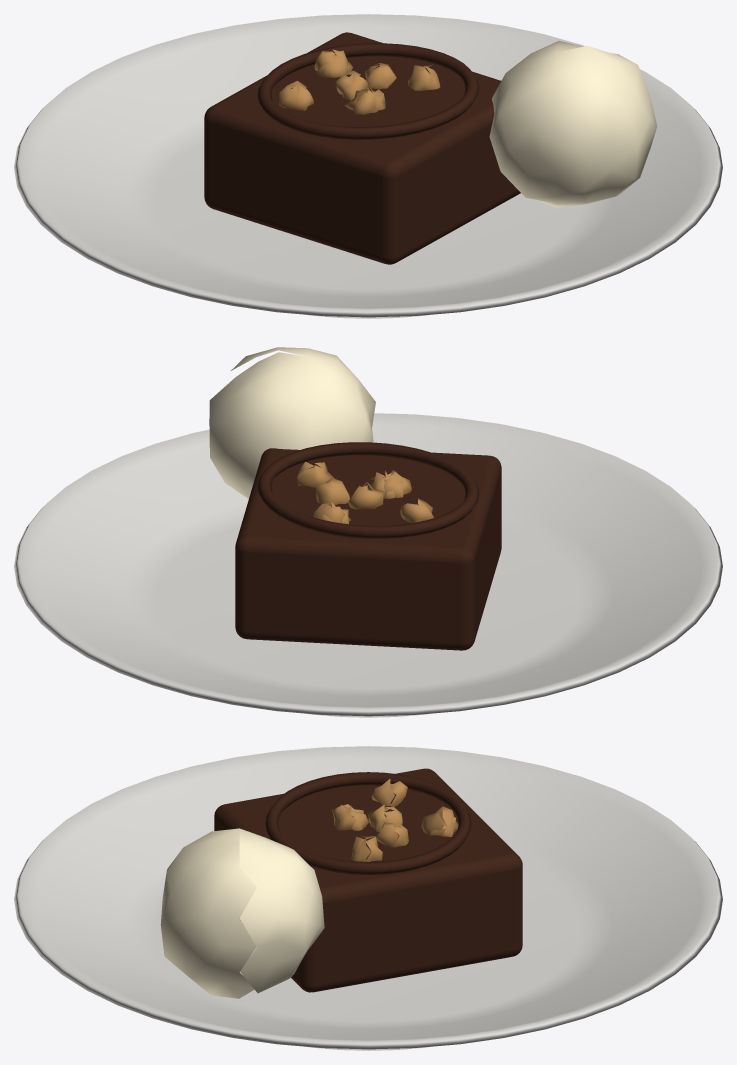
Rendered from brownie.glb.
3 renders of one model, top to bottom at view 1: azimuth 30°, elevation 25°; view 2: azimuth 150°, elevation 25°; view 3: azimuth 270°, elevation 25°, orthographic.
Parts seen in each view (by area): view 1: brownie; view 2: brownie; view 3: brownie.
Part boxes in pixels (box(x1,y1,x2,y2)): brownie: box(14, 14, 722, 318); brownie: box(14, 347, 722, 717); brownie: box(14, 746, 722, 1050).
Size of the model in its own units: 0.22 by 0.0652 by 0.22.
